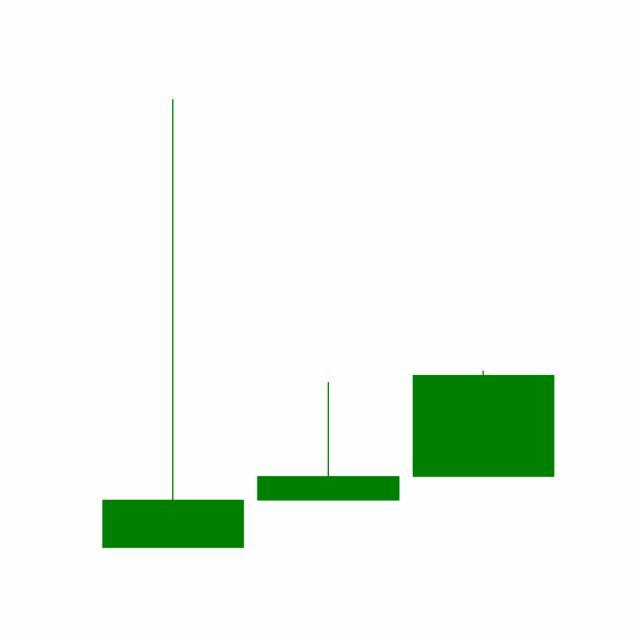Marubozu: (406, 369, 562, 478)
